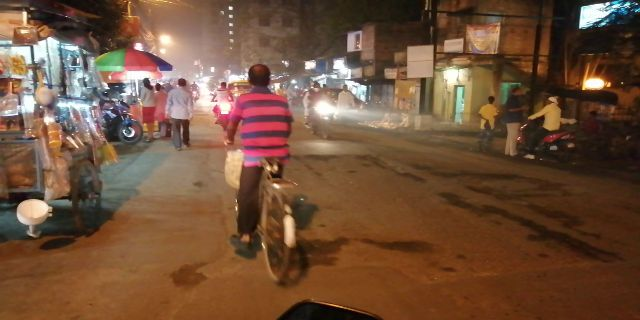Cycle: (223, 62, 308, 289)
Motorbike: (521, 96, 577, 170)
